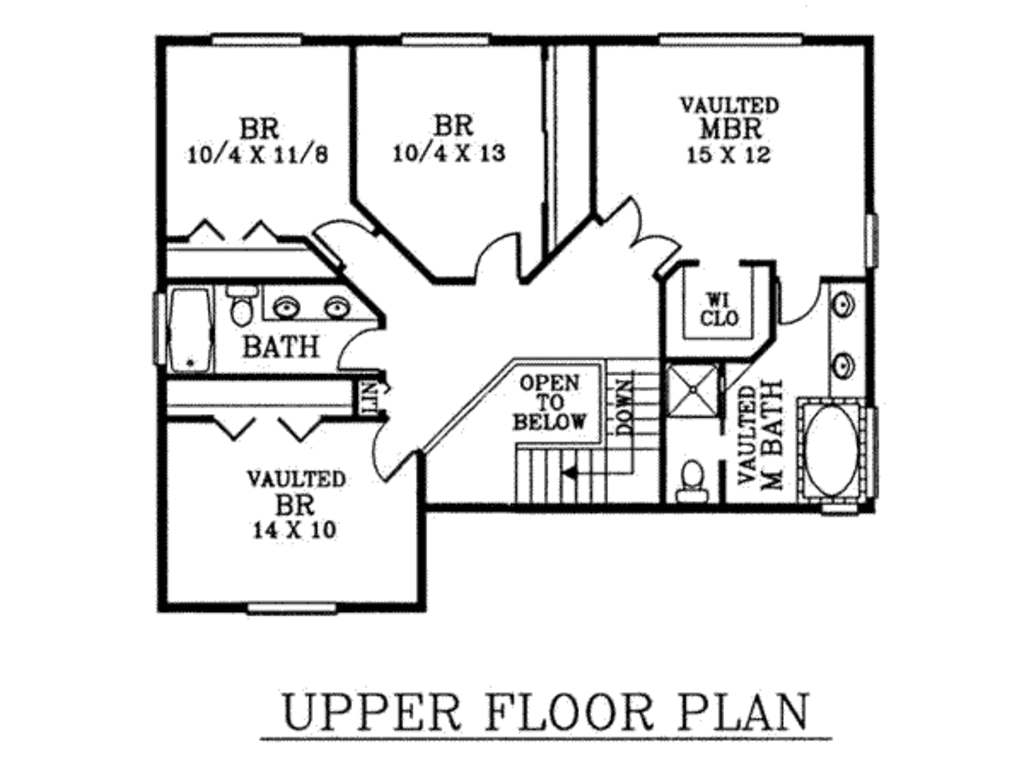door: (604, 188, 676, 275), (312, 211, 387, 273), (471, 222, 534, 289), (371, 419, 423, 490), (771, 265, 827, 326), (333, 325, 383, 369)
large_sink: (665, 452, 717, 509), (217, 281, 259, 332)
small_sink: (260, 278, 382, 328), (828, 283, 865, 397)
stairs: (517, 362, 661, 511)
tub: (794, 394, 882, 501), (166, 285, 221, 376)
window: (655, 33, 806, 51), (240, 596, 342, 619), (209, 32, 310, 53), (856, 209, 885, 273), (396, 34, 486, 49)
